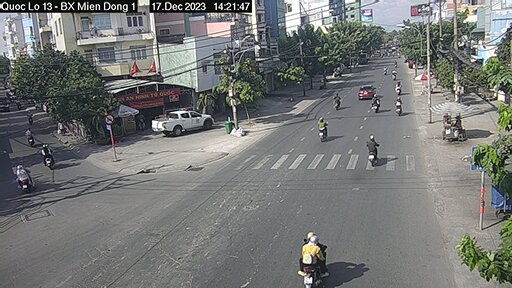car: (149, 110, 214, 135), (355, 83, 377, 99)
motorbike: (297, 235, 336, 288), (356, 131, 386, 170), (15, 160, 38, 198), (35, 143, 60, 173), (315, 117, 330, 142)
